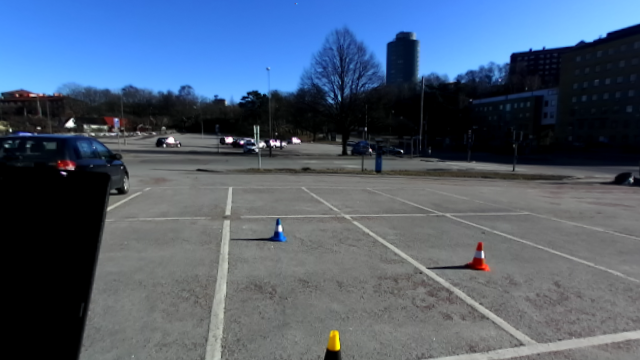blue: (269, 216, 288, 245)
orange: (466, 241, 492, 271)
